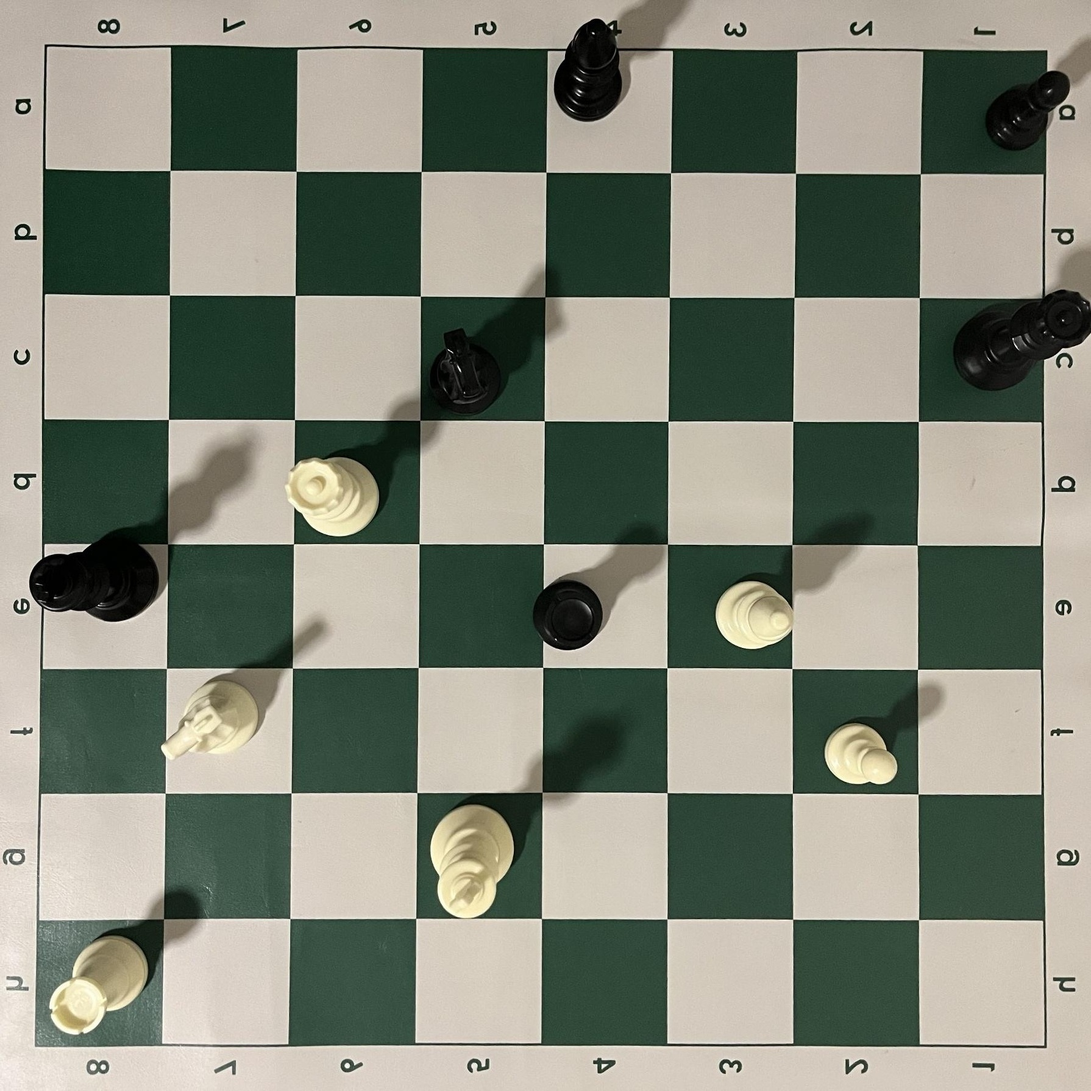black_bishop: (553, 18, 624, 123)
black_king: (28, 534, 160, 622)
black_knight: (428, 327, 502, 414)
black_pawn: (985, 70, 1071, 151)
black_queen: (953, 289, 1090, 392)
black_rook: (533, 579, 603, 652)
white_bishop: (716, 581, 793, 650)
white_king: (430, 803, 516, 920)
white_knight: (160, 680, 259, 761)
white_pawn: (824, 723, 898, 786)
white_queen: (285, 456, 380, 538)
white_rook: (48, 934, 151, 1036)
